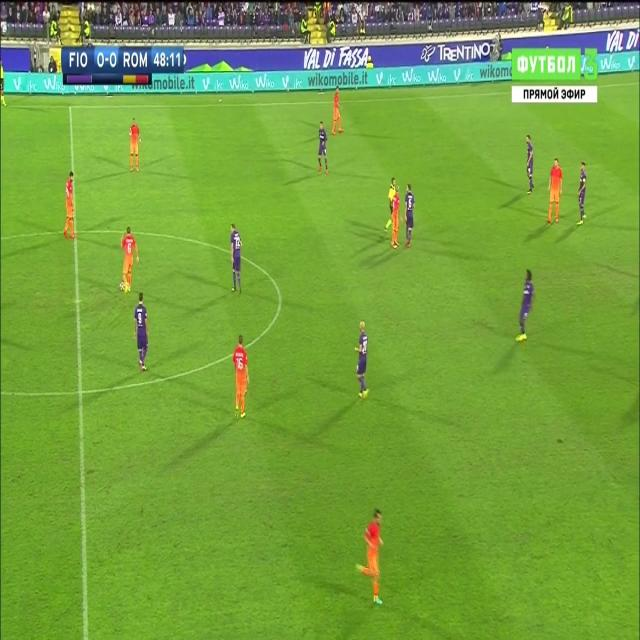Ball: (118, 280, 126, 293)
Player: (354, 506, 385, 609), (232, 332, 252, 424), (118, 226, 141, 294), (545, 154, 565, 230), (516, 265, 534, 343), (132, 293, 149, 374), (354, 320, 371, 401), (230, 220, 244, 298), (62, 170, 77, 242), (388, 186, 402, 252), (576, 158, 588, 231), (128, 114, 142, 176), (316, 120, 330, 181), (330, 86, 346, 139), (404, 184, 416, 252), (525, 133, 535, 199)
Referee: (384, 176, 396, 234)
